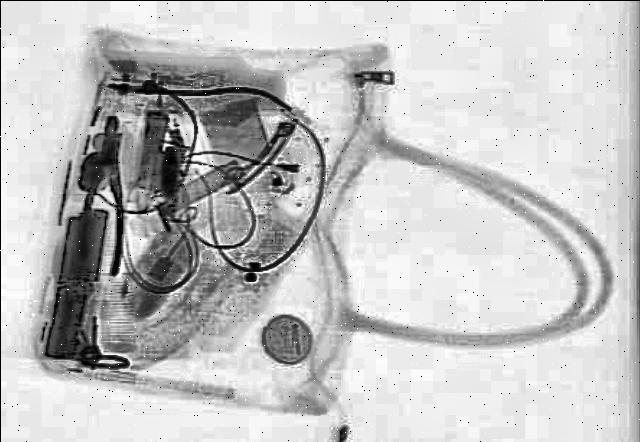Pliers: (77, 112, 136, 272)
